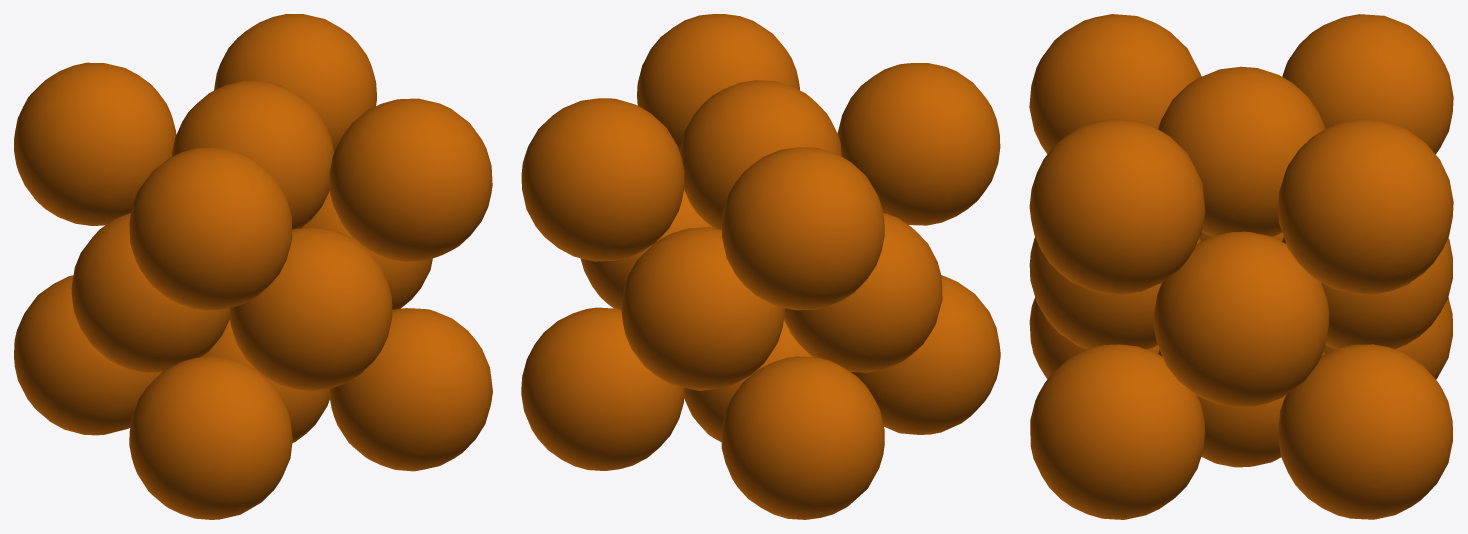
Rendered from FCC_Atoms_Compressed.glb.
3 renders of one model, left to right at view 1: azimuth 30°, elevation 25°; view 2: azimuth 150°, elevation 25°; view 3: azimuth 270°, elevation 25°, orthographic. The views are drawn at different scales.
Visible parts, largest first — view 1: FCC_Atoms; view 2: FCC_Atoms; view 3: FCC_Atoms.
Part boxes in pixels (x1,y1,x2,y2): FCC_Atoms: (14,14,492,519); FCC_Atoms: (521,14,1000,519); FCC_Atoms: (1029,14,1453,519).
Bounding box in the file's own units: 0.6831 × 0.6834 × 0.6836.
